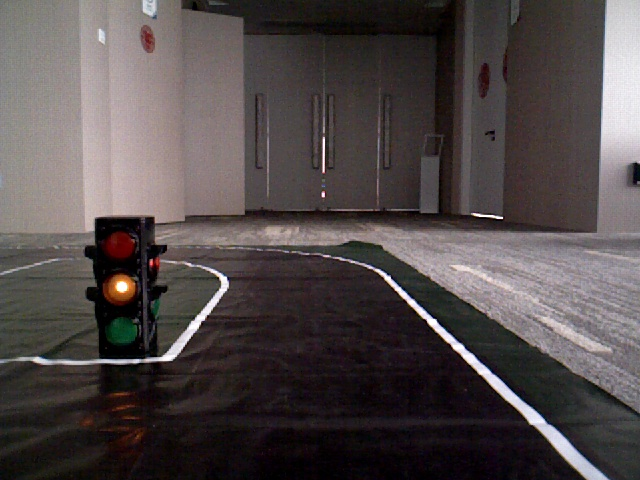yellow: (100, 217, 141, 349)
